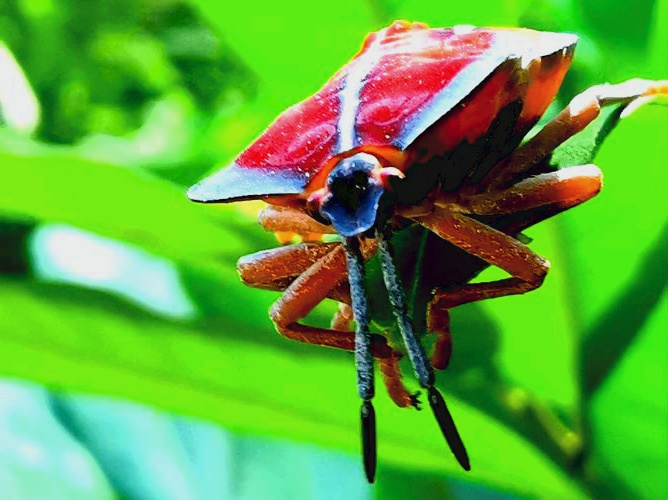Stink_Bug: (259, 7, 583, 350)
